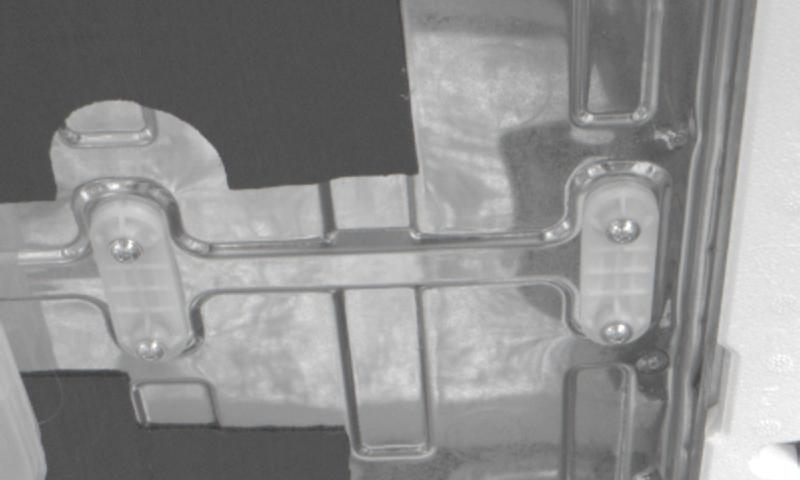vida-ok: (603, 209, 646, 254), (104, 233, 144, 278), (126, 329, 168, 369), (599, 313, 639, 351)
